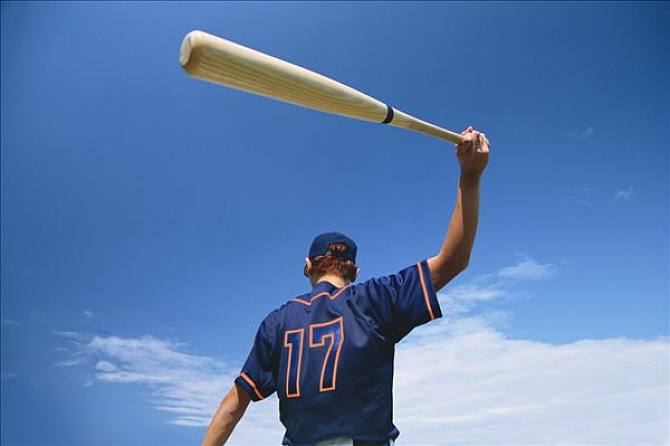no-phone: (374, 96, 493, 177)
